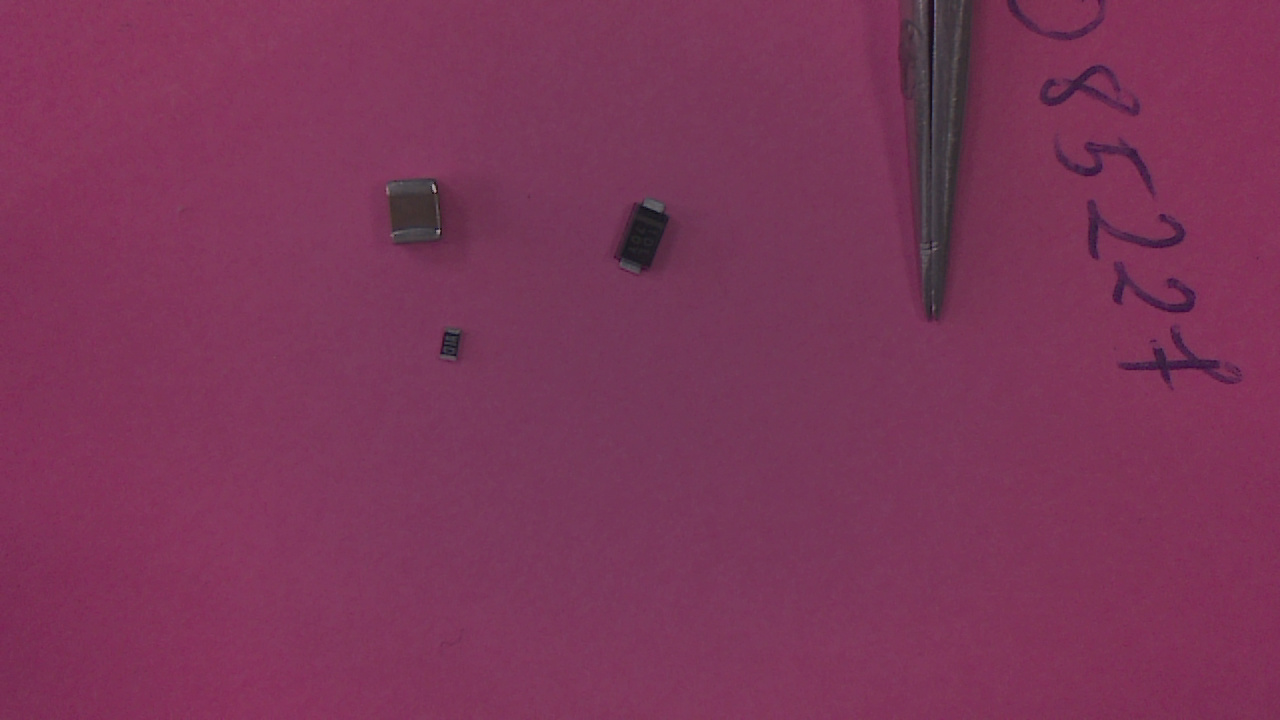Condensator: (385, 182, 454, 255)
Diode: (618, 196, 680, 280)
Resistor: (437, 331, 472, 369)
